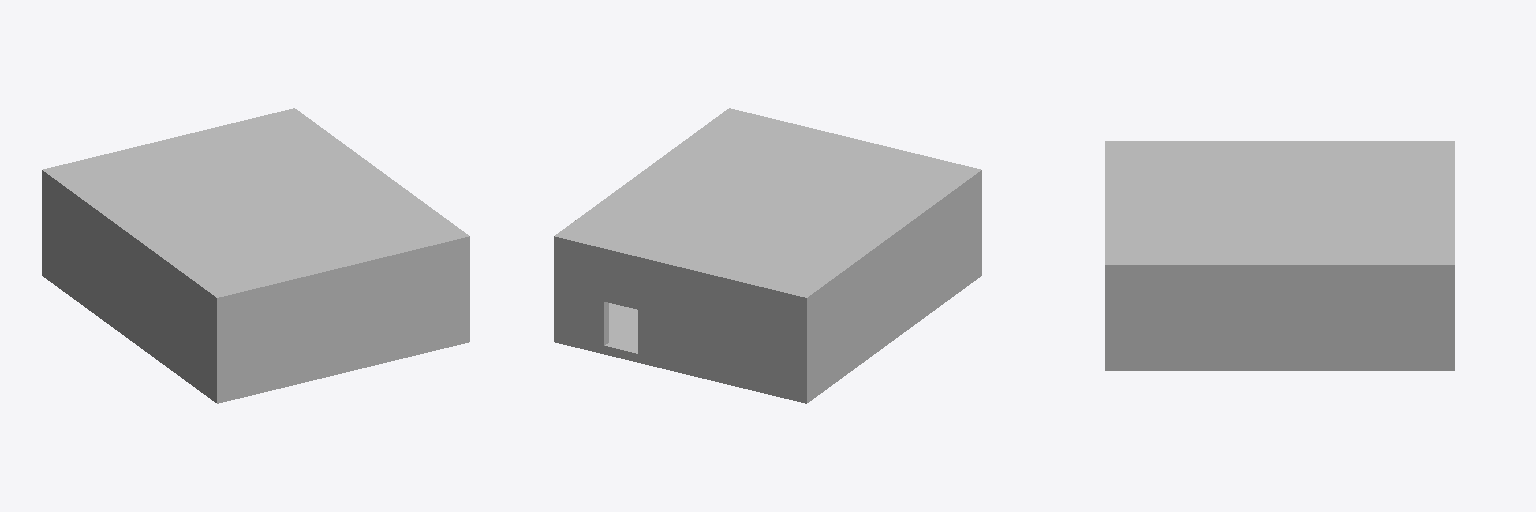
Rendered from start_bang.obj.
3 renders of one model, left to right at view 1: azimuth 30°, elevation 25°; view 2: azimuth 150°, elevation 25°; view 3: azimuth 270°, elevation 25°, orthographic.
Parts seen in each view (by area): view 1: Cube.014, Cube.001, Cube.006, Cube; view 2: Cube.014, Cube.003, Cube.006, Cube, Cube.002, Cube.004; view 3: Cube.014, Cube.005, Cube, Cube.001, Cube.002.
Part boxes in pixels (left/top/right/bottom): Cube.014: left=42, top=108, right=469, bottom=306; Cube.001: left=212, top=245, right=469, bottom=394; Cube.006: left=47, top=183, right=211, bottom=390; Cube: left=42, top=267, right=469, bottom=403; Cube.014: left=554, top=108, right=981, bottom=306; Cube.003: left=638, top=266, right=811, bottom=394; Cube.006: left=812, top=183, right=976, bottom=390; Cube: left=554, top=267, right=981, bottom=403; Cube.002: left=554, top=245, right=608, bottom=345; Cube.004: left=604, top=258, right=637, bottom=309; Cube.014: left=1105, top=141, right=1454, bottom=273; Cube.005: left=1114, top=274, right=1445, bottom=361; Cube: left=1105, top=362, right=1454, bottom=370; Cube.001: left=1105, top=274, right=1113, bottom=361; Cube.002: left=1446, top=274, right=1454, bottom=361.
Size of the model in its own units: 30 by 12 by 36.